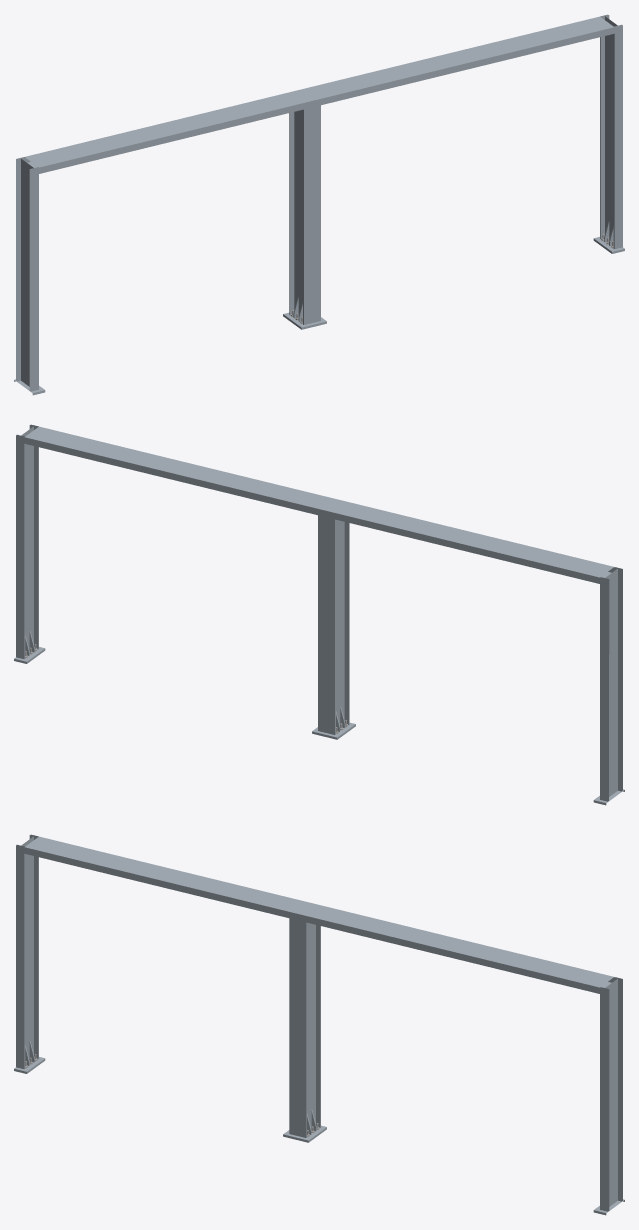
Rendered from SM06_Building_Structure_Wall_Bottom_01_Corner.fbx.
The picture shows the model from 3 angles, top to bottom: view 1: azimuth 30°, elevation 25°; view 2: azimuth 150°, elevation 25°; view 3: azimuth 330°, elevation 25°; orthographic projection.
Visible parts, largest first — view 1: SM06_Building_Structure_Wall_Bottom_01_Corner; view 2: SM06_Building_Structure_Wall_Bottom_01_Corner; view 3: SM06_Building_Structure_Wall_Bottom_01_Corner.
Part boxes in pixels (x1,y1,x2,y2): SM06_Building_Structure_Wall_Bottom_01_Corner: [14, 14, 624, 395]; SM06_Building_Structure_Wall_Bottom_01_Corner: [14, 424, 624, 805]; SM06_Building_Structure_Wall_Bottom_01_Corner: [14, 834, 624, 1215].
Bounding box in the file's own units: 13.83 × 5.01 × 0.7496.
